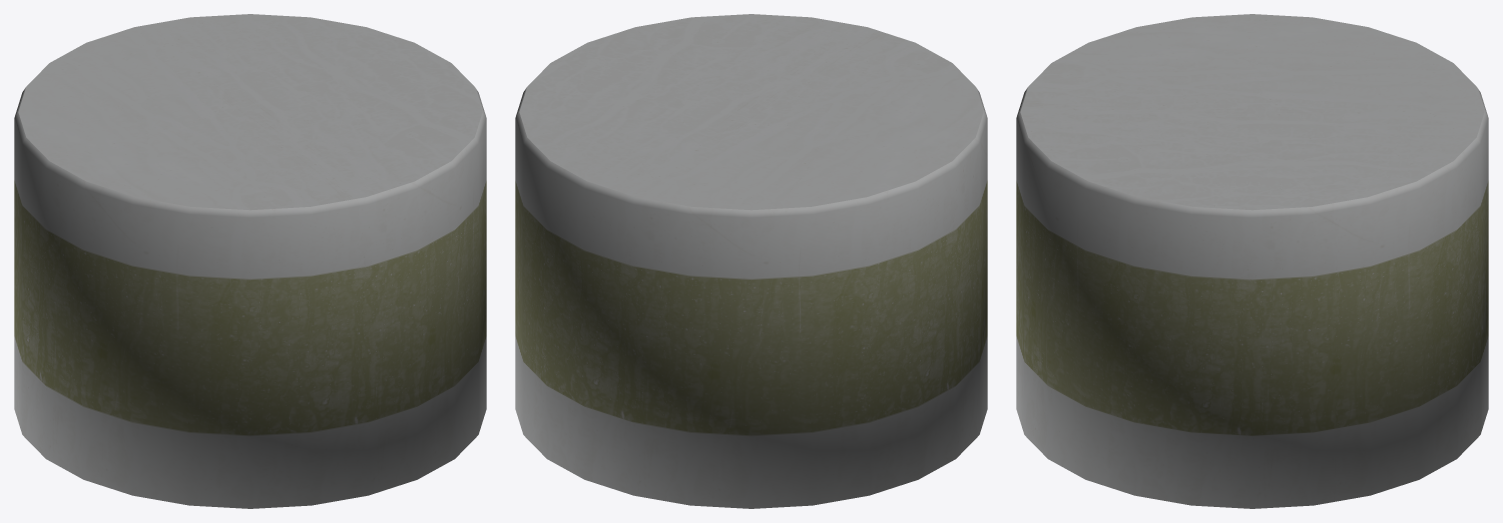
The model's file is lidar.dae.
3 views of the same model, side by side, from view 1: azimuth 30°, elevation 25°; view 2: azimuth 150°, elevation 25°; view 3: azimuth 270°, elevation 25° (orthographic).
Parts seen in each view (by area): view 1: Lidar_01; view 2: Lidar_01; view 3: Lidar_01.
Boxes of the visible parts, <box> form: Lidar_01: <box>14,14,486,508</box>; Lidar_01: <box>515,14,987,508</box>; Lidar_01: <box>1016,14,1488,508</box>.
Size of the model in its own units: 0.0516 by 0.0516 by 0.0359.
1 material, 1 textured.
